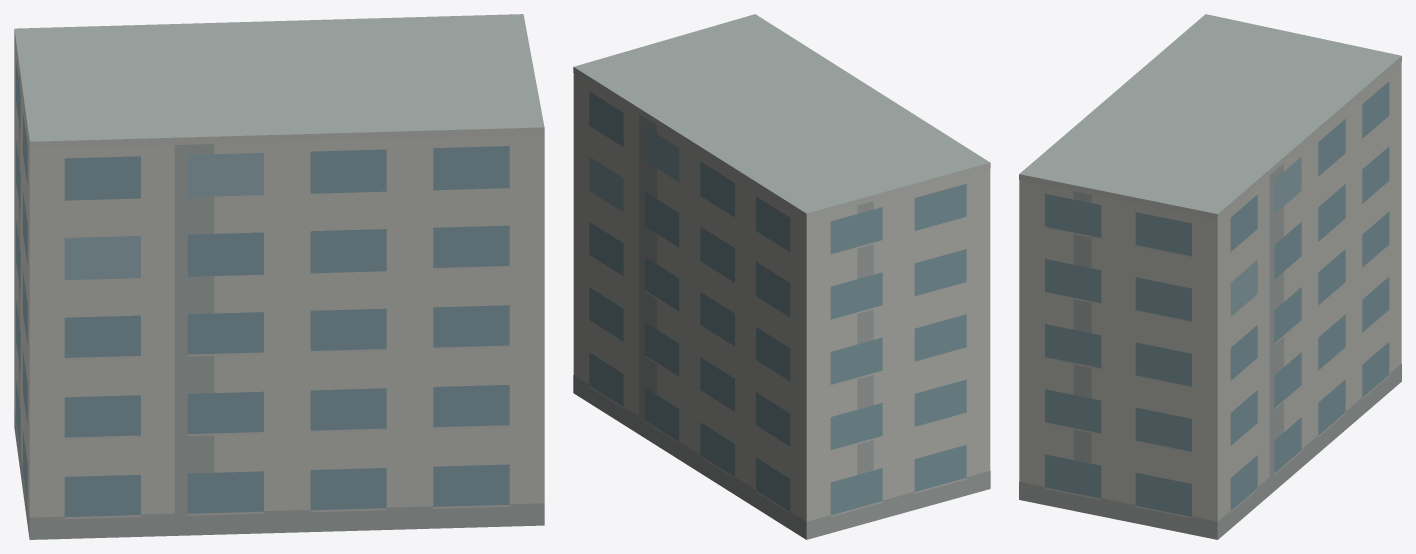
File: survey-upis-32852754.glb
3 views of the same model, side by side, from view 1: azimuth 30°, elevation 25°; view 2: azimuth 150°, elevation 25°; view 3: azimuth 270°, elevation 25° (orthographic). The views are drawn at different scales.
Parts seen in each view (by area): view 1: survey-upis-32852754.tmp; view 2: survey-upis-32852754.tmp; view 3: survey-upis-32852754.tmp.
Boxes of the visible parts, x1,y1,x2,y2 form: survey-upis-32852754.tmp: [14, 14, 544, 539]; survey-upis-32852754.tmp: [573, 14, 990, 539]; survey-upis-32852754.tmp: [1019, 14, 1401, 539].
Size of the model in its own units: 17.4 by 13.2 by 14.06.
